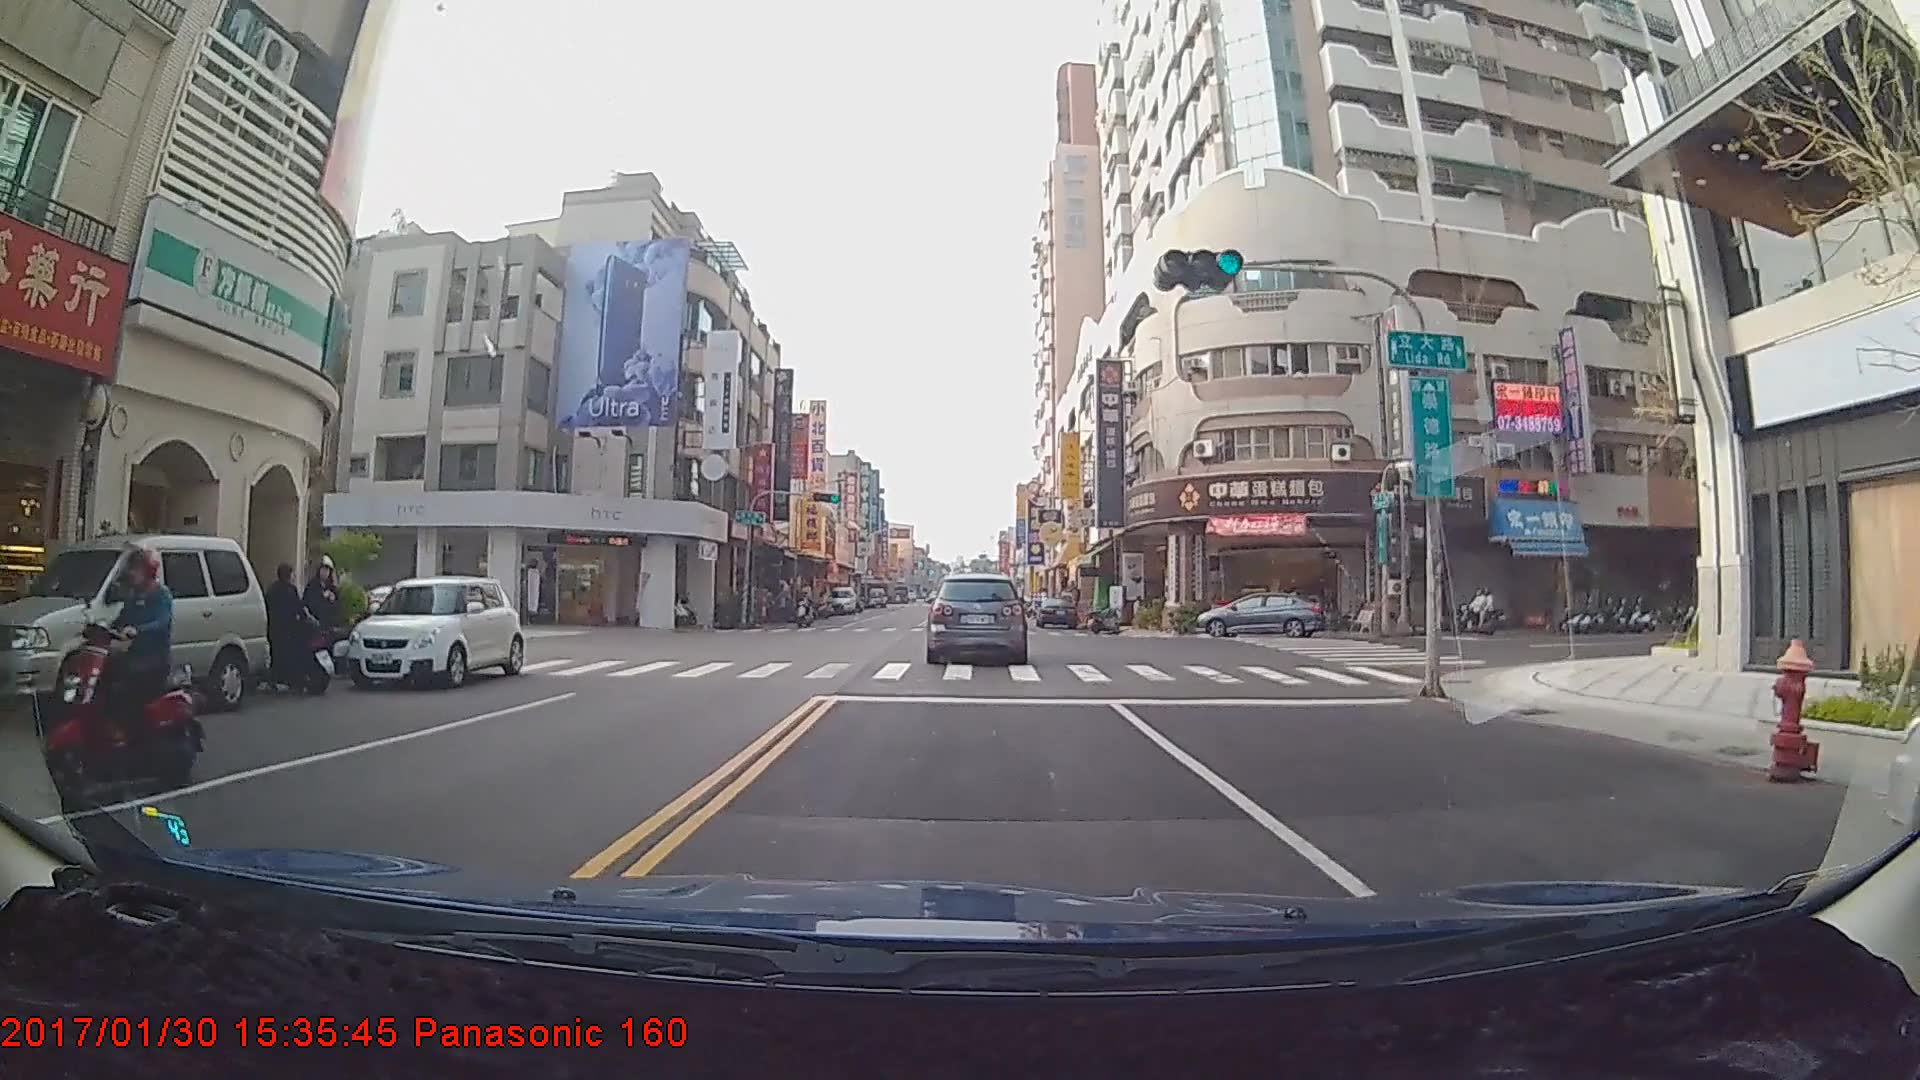pedestrian: (296, 548, 344, 689)
rider: (37, 547, 208, 819), (1443, 584, 1499, 634), (789, 588, 820, 630)
vehicle: (0, 531, 268, 725), (343, 572, 523, 688), (925, 574, 1026, 665), (1197, 587, 1328, 640), (1037, 593, 1079, 627), (828, 582, 857, 612)
